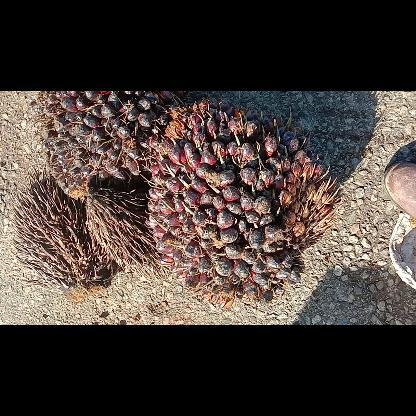Janjang kosong: (8, 164, 112, 302), (86, 187, 169, 279)
TBS mentah: (144, 100, 340, 306), (32, 90, 170, 198)
